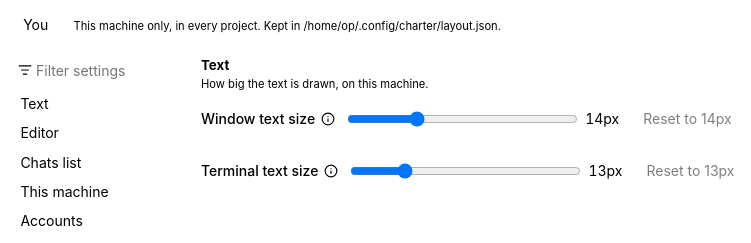
Test case: filtering the Settings tab by name › says in a sentence when nothing matches, and the nav is empty
Type "colour of the moon" into the search field labelled "Filter settings" at [96, 70], box top-left (12, 56), bottom-right (180, 84)
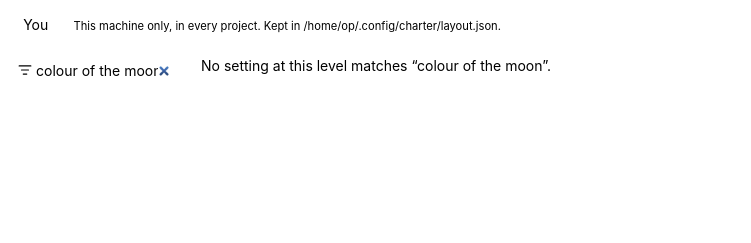
Check: the text "No setting at this level matches “colour of the moon”." is shown, box top-left (201, 57), bottom-right (551, 74)
